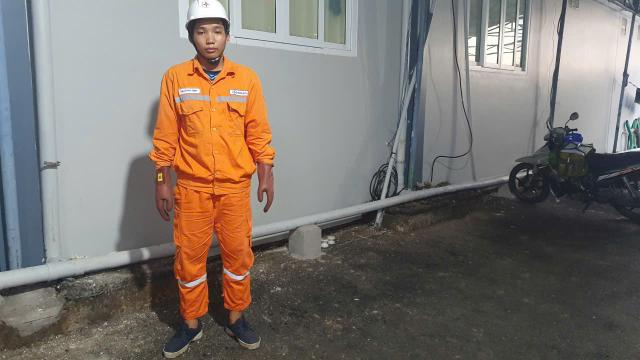gloves: (256, 148, 289, 208), (153, 158, 182, 222)
helmet: (172, 0, 248, 34)
shoes: (163, 310, 200, 358), (218, 308, 256, 348)
